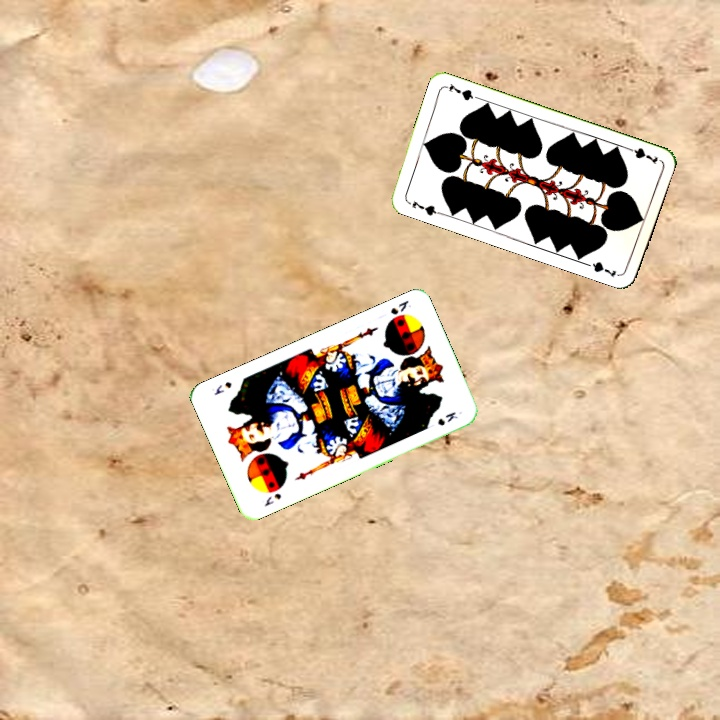G7: (621, 143, 661, 166), (408, 196, 443, 218)
SK: (386, 296, 414, 317), (260, 489, 284, 509)
